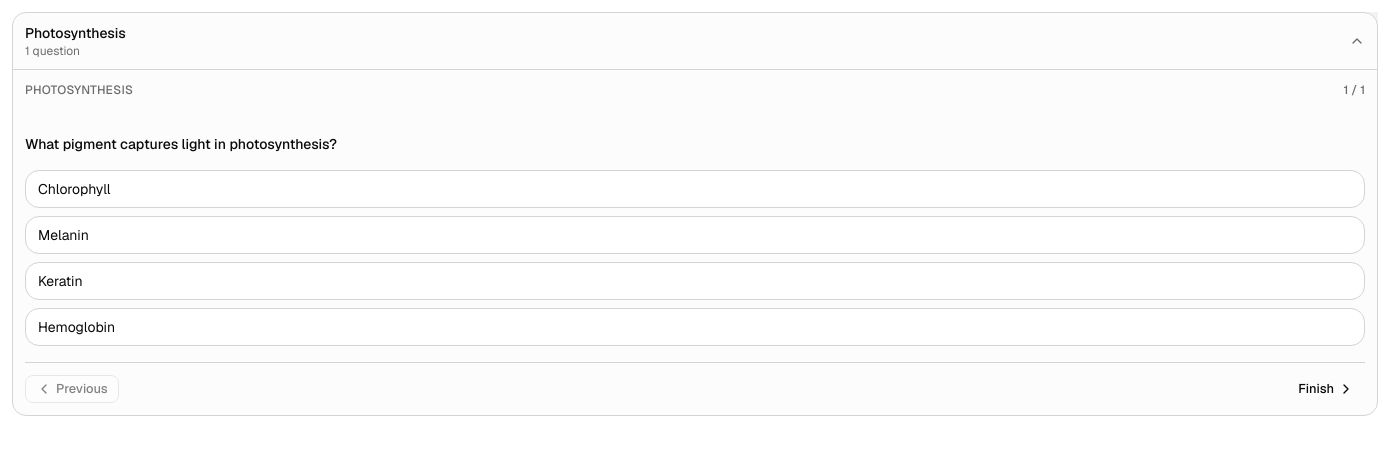
Test: QuizPanel answer interaction › selecting a wrong option shows the correct answer and doesn't mark it Correct!
Step 1. Click the button "Melanin" → [64, 235], box [25,216,1365,254]
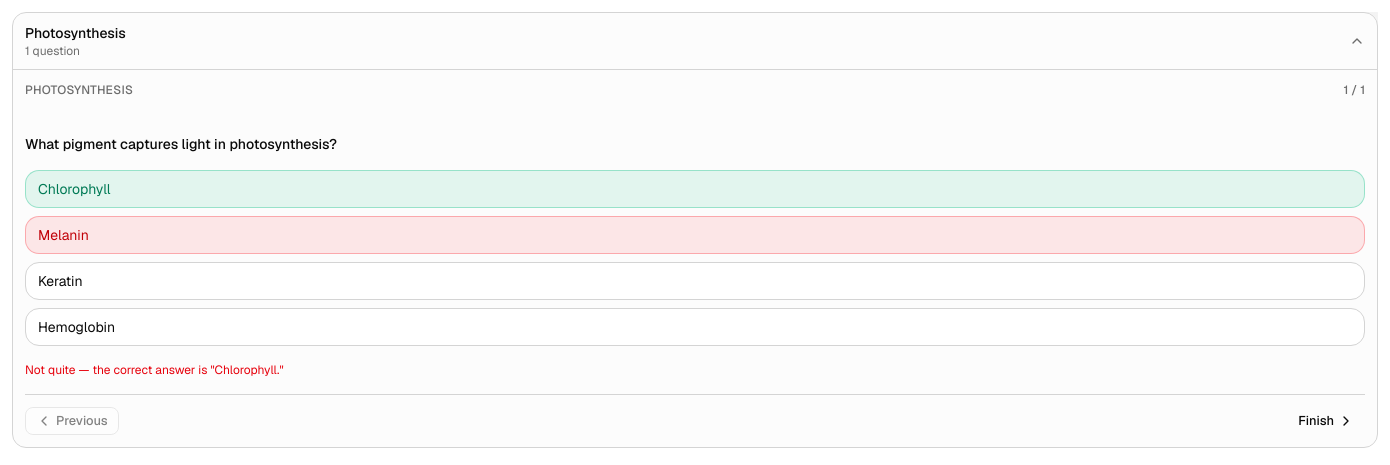
Check: the text "Not quite — the correct answer is \"Chlorophyll.\"" is shown, box [25,362,284,378]
Check: the button "Melanin" is disabled, box [25,216,1365,254]
